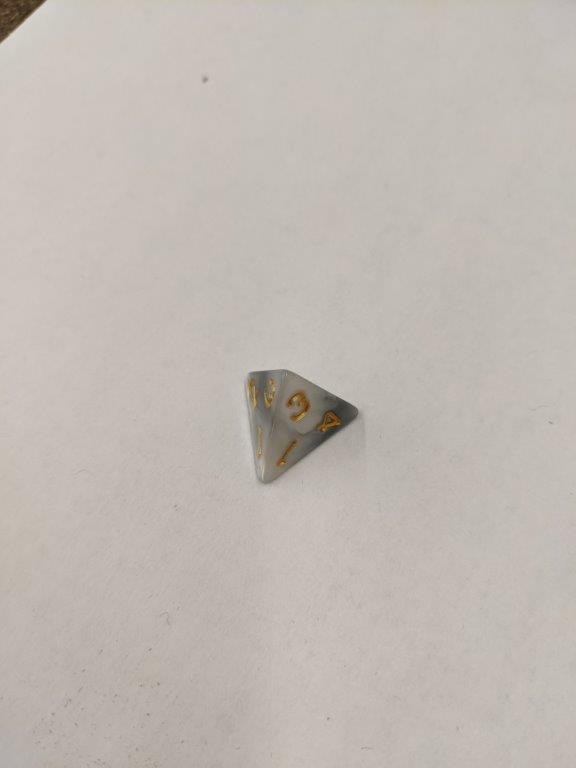d4-3: (242, 366, 361, 490)
